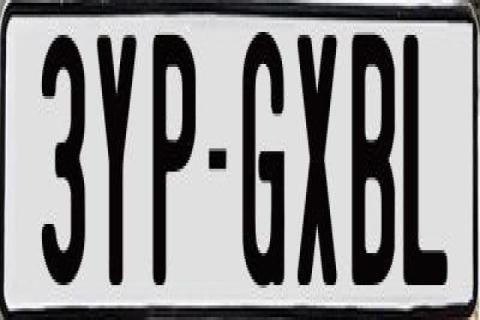0: (42, 29, 92, 294)
B: (348, 35, 398, 299)
G: (240, 23, 284, 280)
L: (400, 32, 452, 296)
P: (150, 29, 194, 297)
X: (296, 29, 344, 288)
Y: (96, 26, 142, 276)
